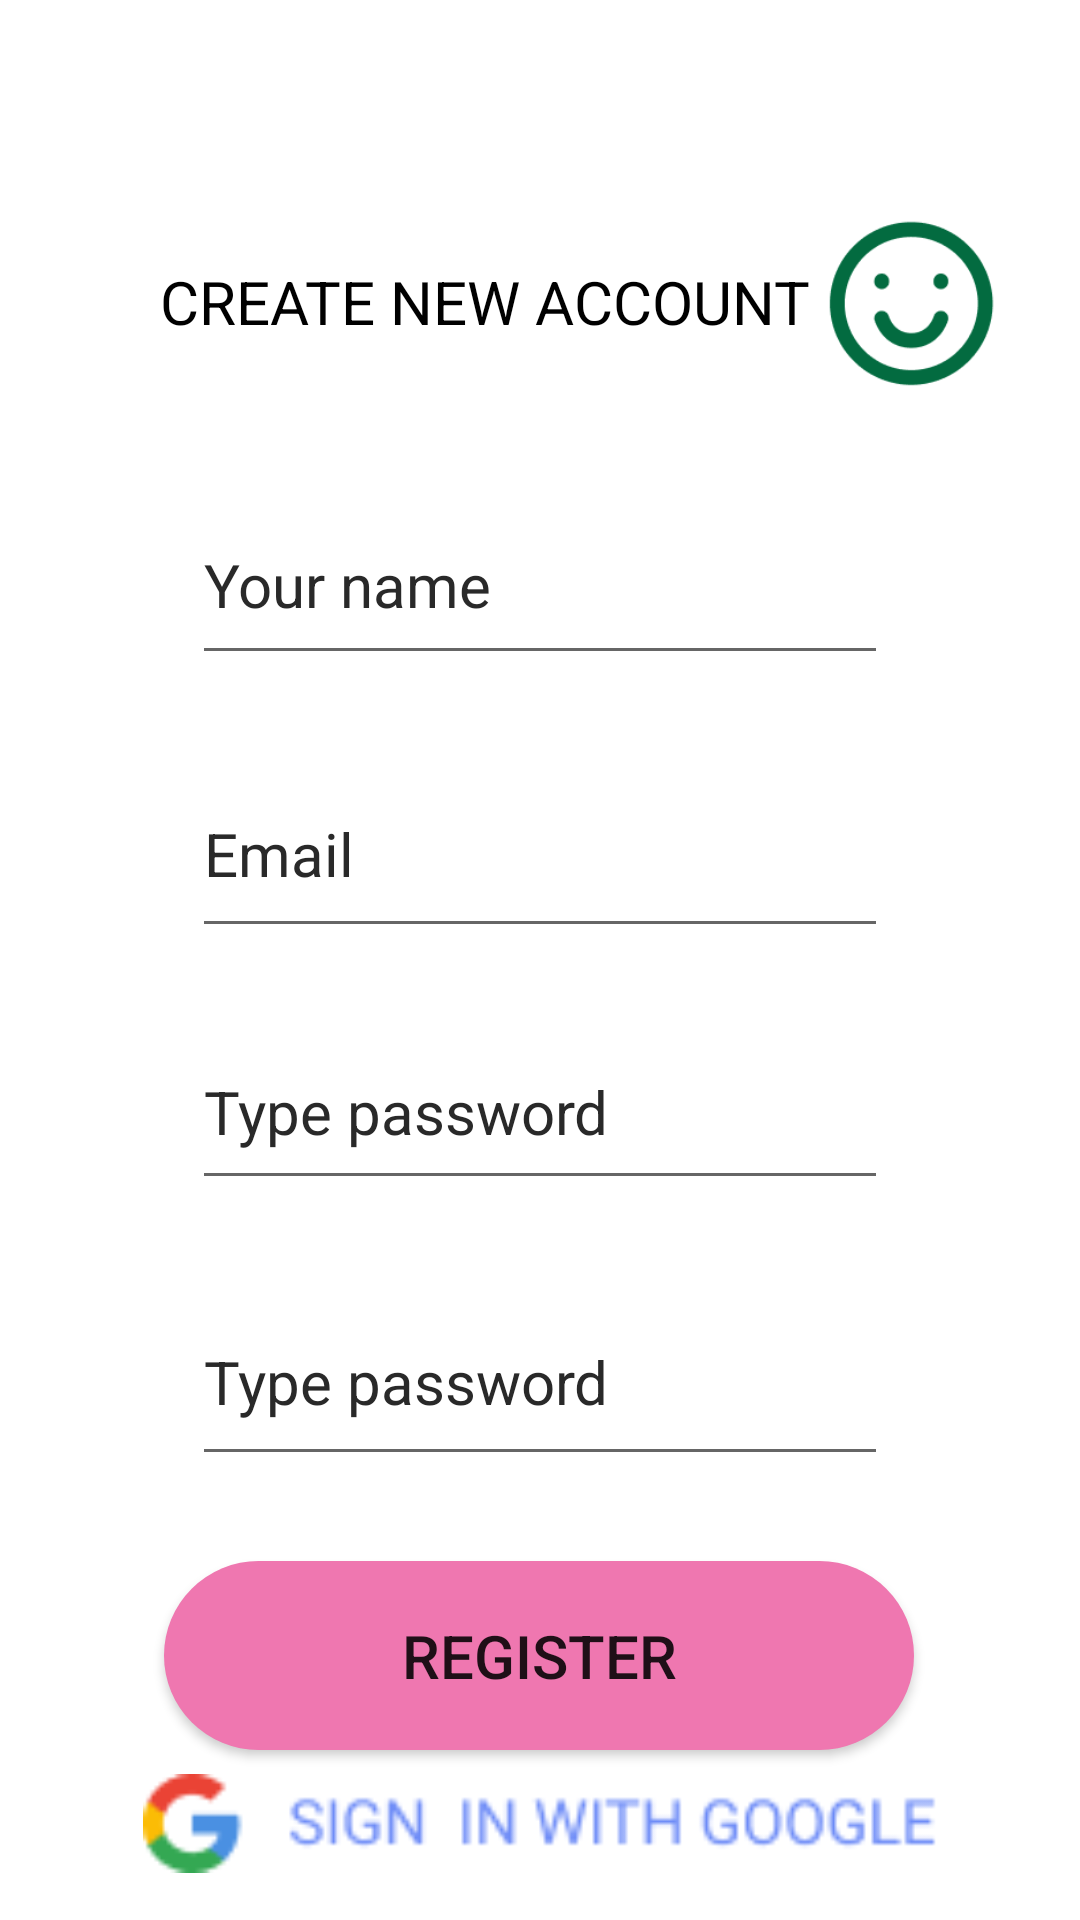

Icon click points for this 1080px x 1920px phone screenshot, format (x,y):
iconsmile: (911,303)
